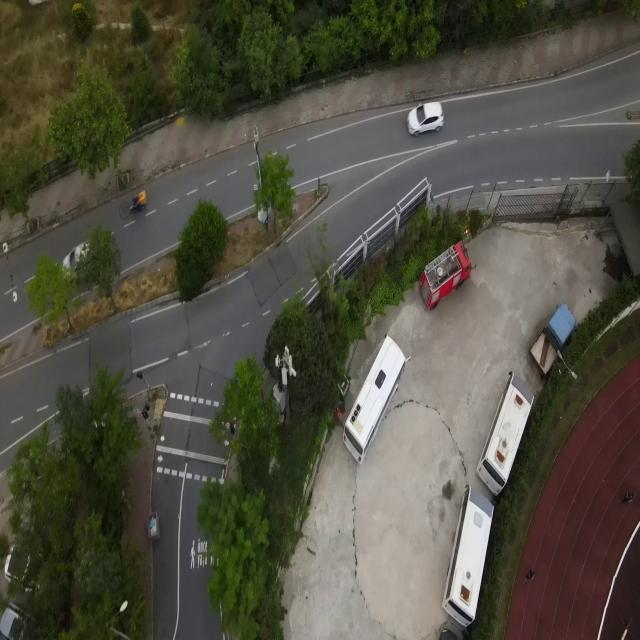vehicle: (343, 334, 406, 461), (476, 368, 535, 496), (443, 488, 495, 626), (418, 239, 472, 310), (528, 302, 576, 378), (407, 100, 444, 135), (62, 243, 92, 272), (130, 190, 148, 212), (622, 491, 634, 504), (524, 568, 534, 582), (229, 422, 234, 438)
